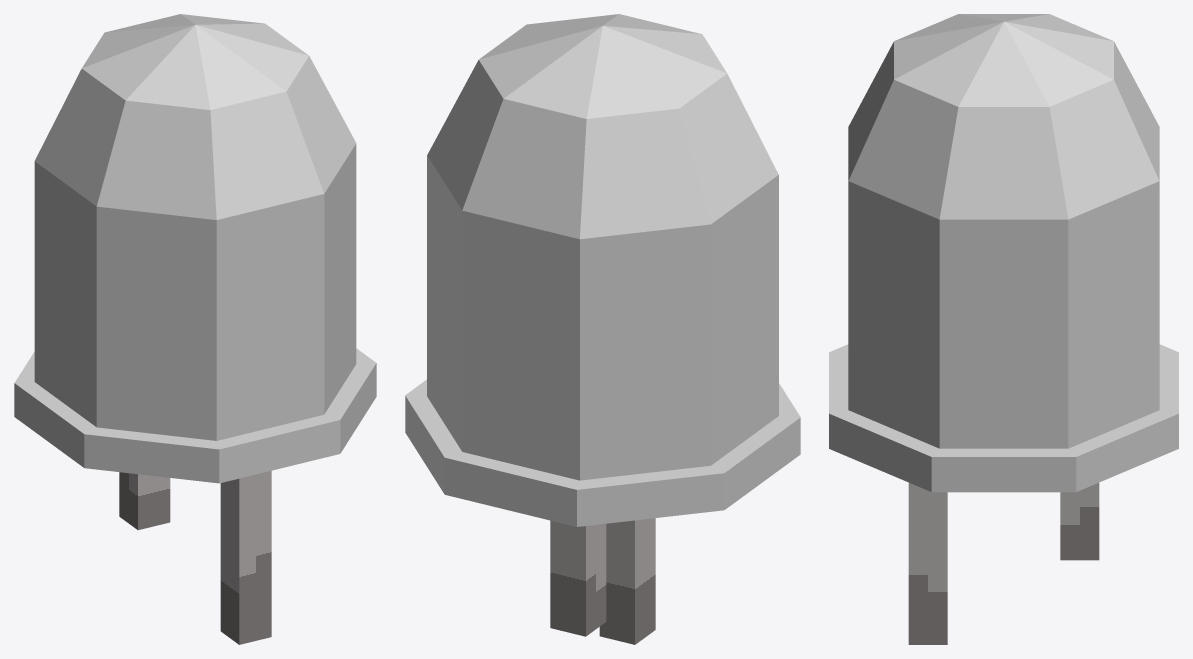
File: LED3.gltf
3 renders of one model, left to right at view 1: azimuth 30°, elevation 25°; view 2: azimuth 150°, elevation 25°; view 3: azimuth 270°, elevation 25°, orthographic. The views are drawn at different scales.
Parts seen in each view (by area): view 1: cylinder, cuboid; view 2: cylinder, cuboid; view 3: cylinder, cuboid.
Part boxes in pixels (box(x1,y1,x2,y2)): cylinder: box(14, 14, 376, 483); cuboid: box(119, 470, 271, 644); cylinder: box(405, 14, 800, 526); cuboid: box(550, 518, 655, 644); cylinder: box(829, 14, 1178, 492); cuboid: box(908, 483, 1099, 644).
Size of the model in its own units: 1.12 by 2.16 by 1.12.
2 materials, 1 textured.
